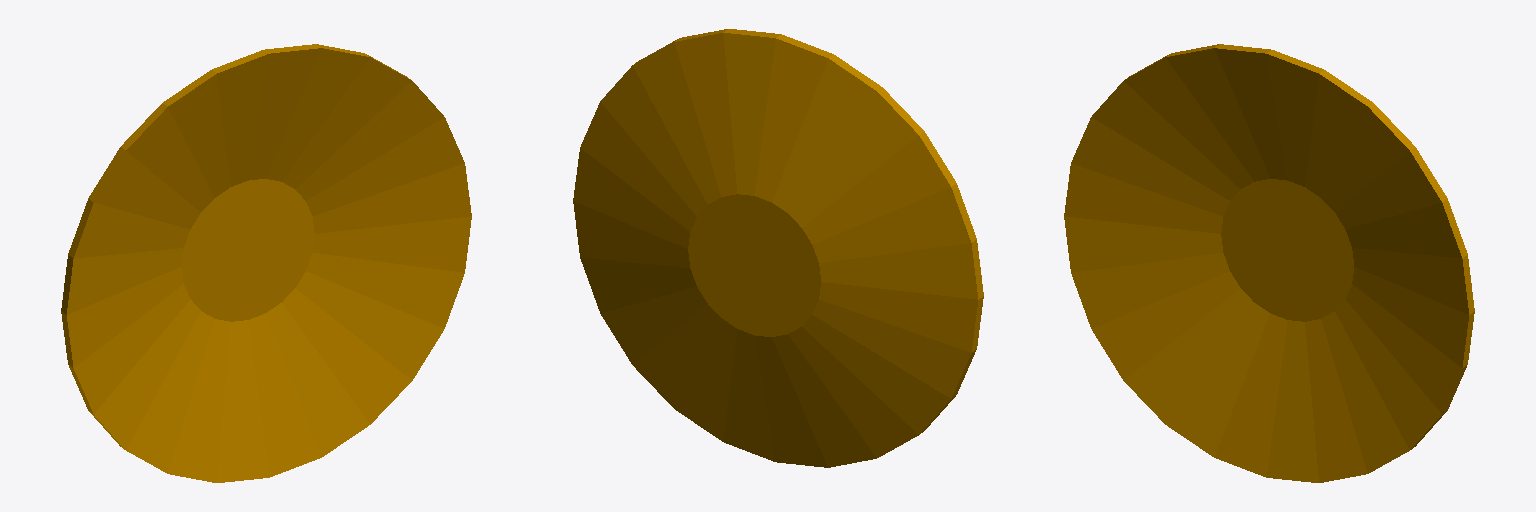
The model's file is AntennaHalfMeter.obj.
3 renders of one model, left to right at view 1: azimuth 30°, elevation 25°; view 2: azimuth 150°, elevation 25°; view 3: azimuth 330°, elevation 25°, orthographic.
Parts seen in each view (by area): view 1: Cylinder2; view 2: Cylinder2; view 3: Cylinder2.
Boxes of the visible parts, box(x1,y1,x2,y2) form: Cylinder2: box(61, 44, 471, 482); Cylinder2: box(573, 29, 983, 467); Cylinder2: box(1064, 44, 1474, 482).
Size of the model in its own units: 0.5 by 0.5 by 0.0569.